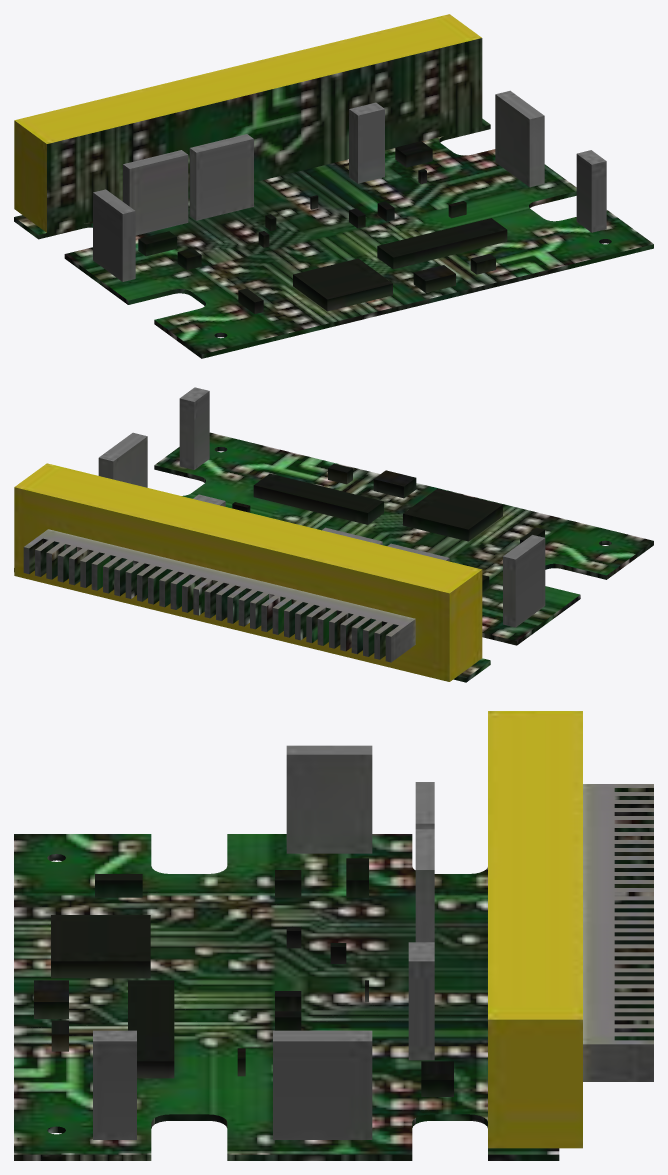
File: pcbBoardB.glb
3 renders of one model, top to bottom at view 1: azimuth 30°, elevation 25°; view 2: azimuth 150°, elevation 25°; view 3: azimuth 270°, elevation 25°, orthographic. The views are drawn at different scales.
Visible parts, largest first — view 1: Asset3DLoader.sceneRoot; view 2: Asset3DLoader.sceneRoot; view 3: Asset3DLoader.sceneRoot.
Part boxes in pixels (left/top/right/bottom): Asset3DLoader.sceneRoot: left=14, top=14, right=653, bottom=358; Asset3DLoader.sceneRoot: left=14, top=387, right=653, bottom=682; Asset3DLoader.sceneRoot: left=14, top=711, right=653, bottom=1160.
Bounding box in the file's own units: 160 × 31.5 × 135.
1 material, 1 textured.
